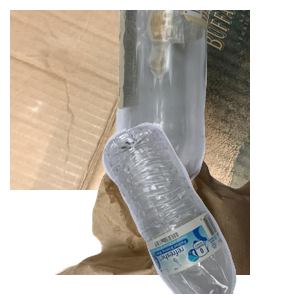cardboard: (10, 10, 250, 190)
glass: (113, 10, 300, 190)
plastic: (100, 120, 300, 300)
trash: (52, 120, 292, 300)
